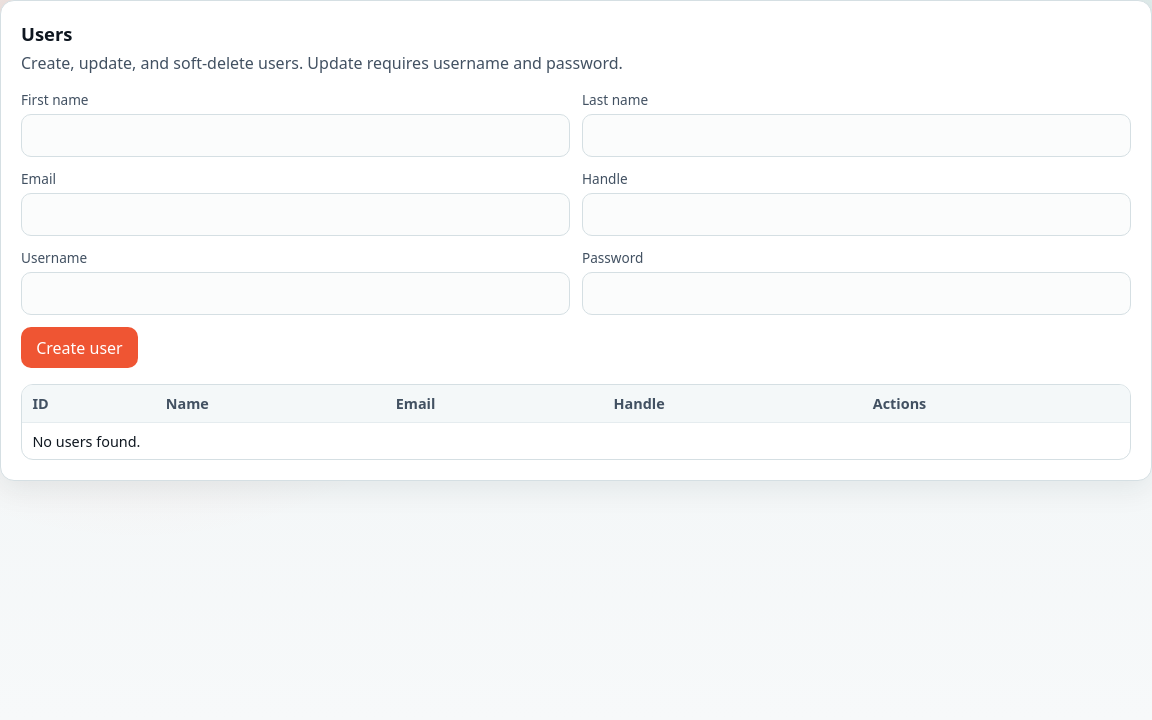
Test: UserSection › submits create user payload and refreshes list
The image size is (1152, 720).
Check: the text "No users found." is shown, box [22,422,1130,459]
Type "Ada" into the field labelled "First name".
click(296, 135); type("Ada")  # box [21,114,570,157]
Type "Lovelace" into the field labelled "Last name".
click(856, 135); type("Lovelace")  # box [582,114,1131,157]
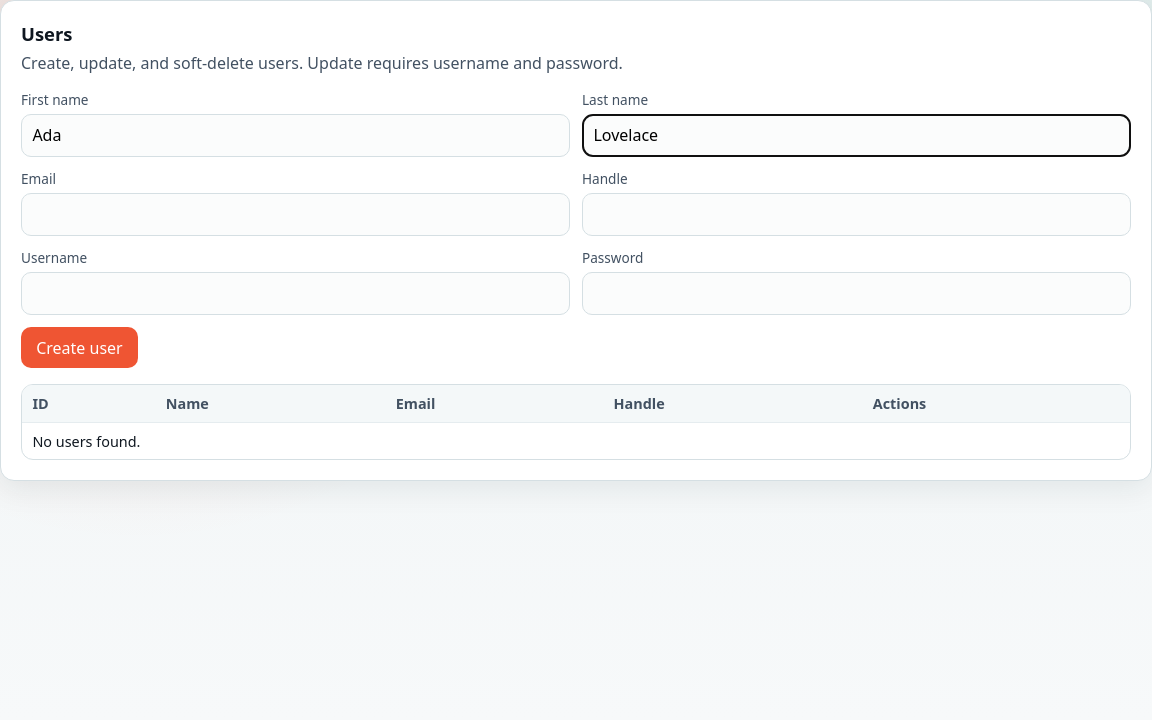
Type "ada@example.com" into the field labelled "Email".
click(296, 215); type("ada@example.com")  # box [21,193,570,236]
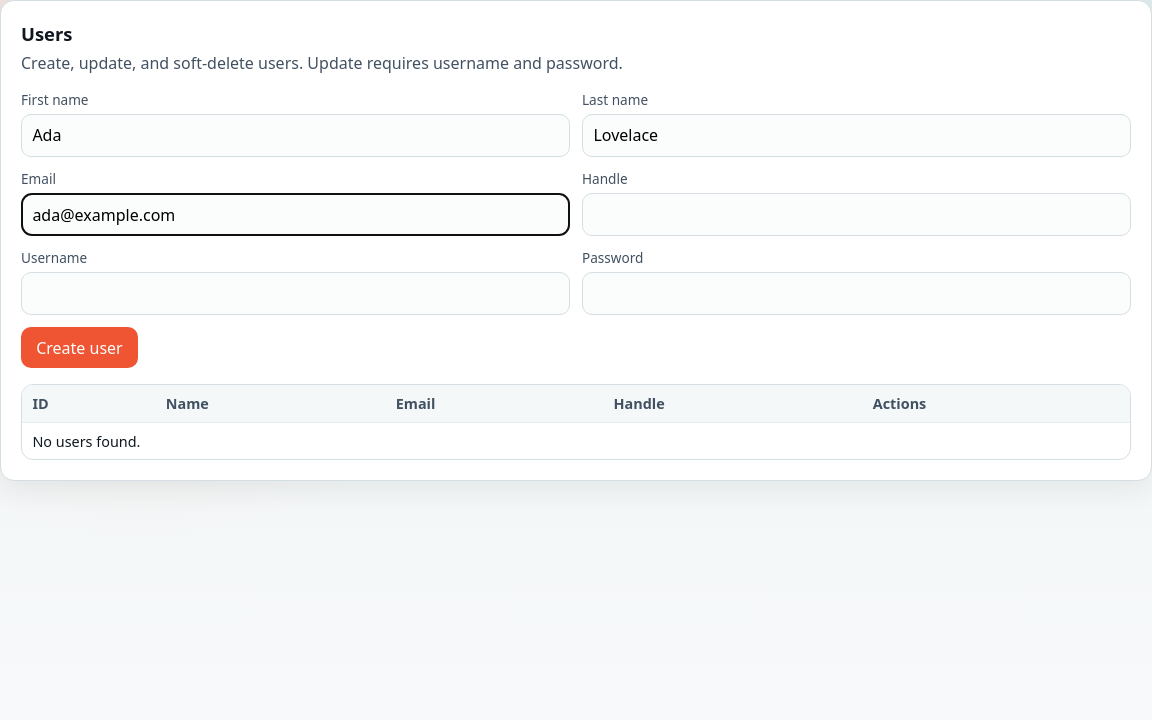
Type "adal" into the field labelled "Handle".
click(856, 215); type("adal")  # box [582,193,1131,236]
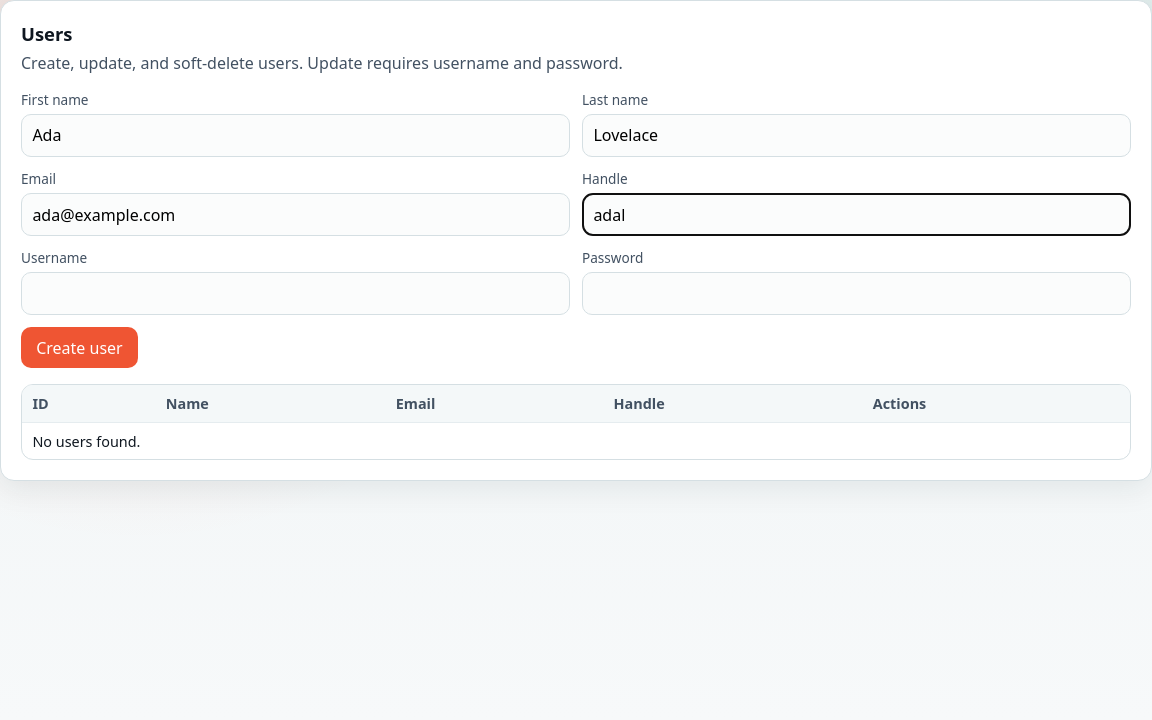
Type "adal" into the field labelled "Username".
click(296, 294); type("adal")  # box [21,272,570,315]
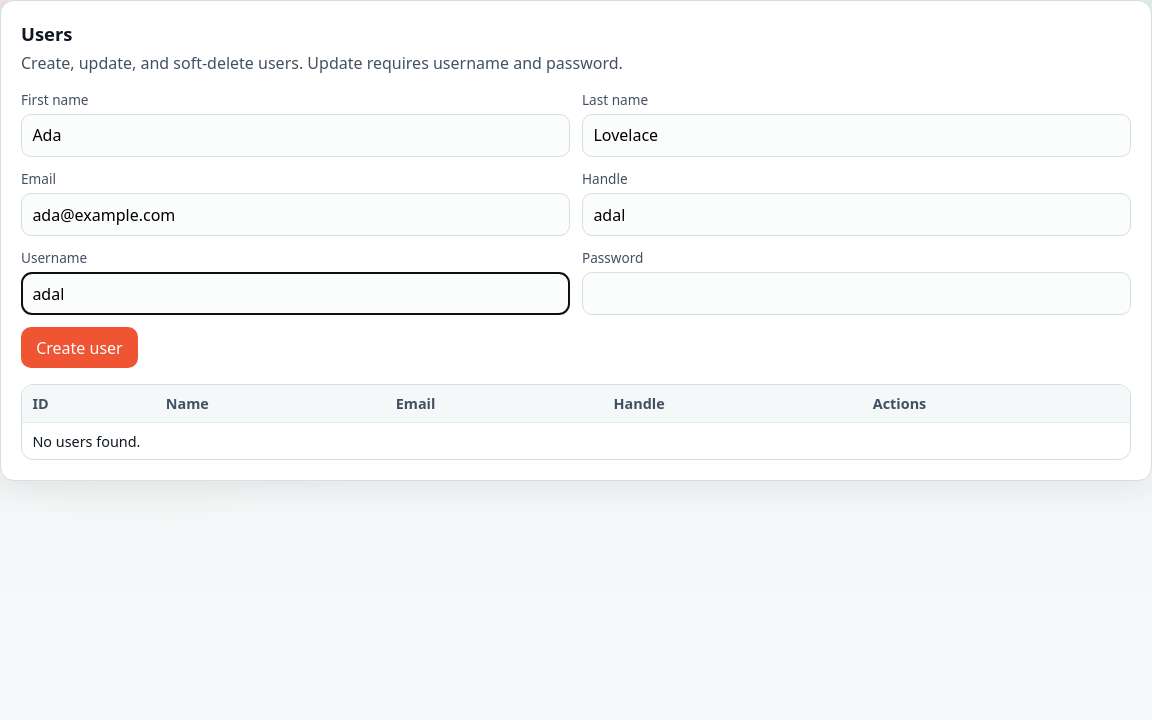
Type "password123" into the password field labelled "Password".
click(856, 294); type("password123")  # box [582,272,1131,315]
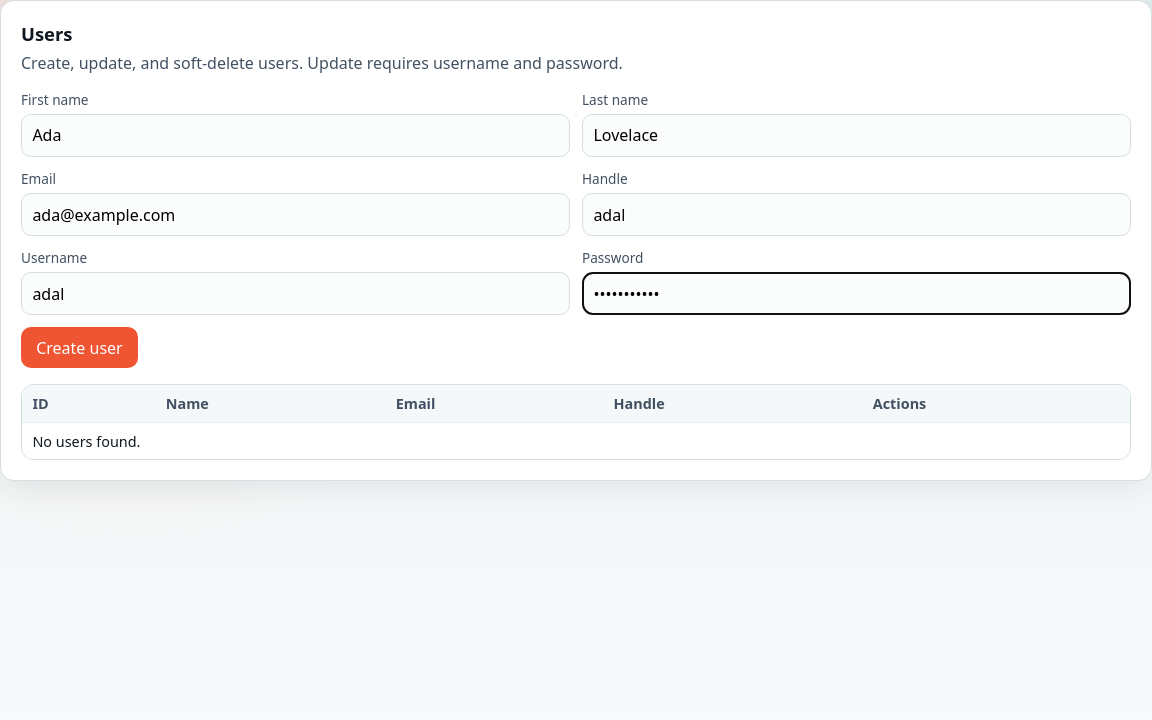
Click the button with test id "users-submit".
click(79, 348)  # box [21,327,138,368]
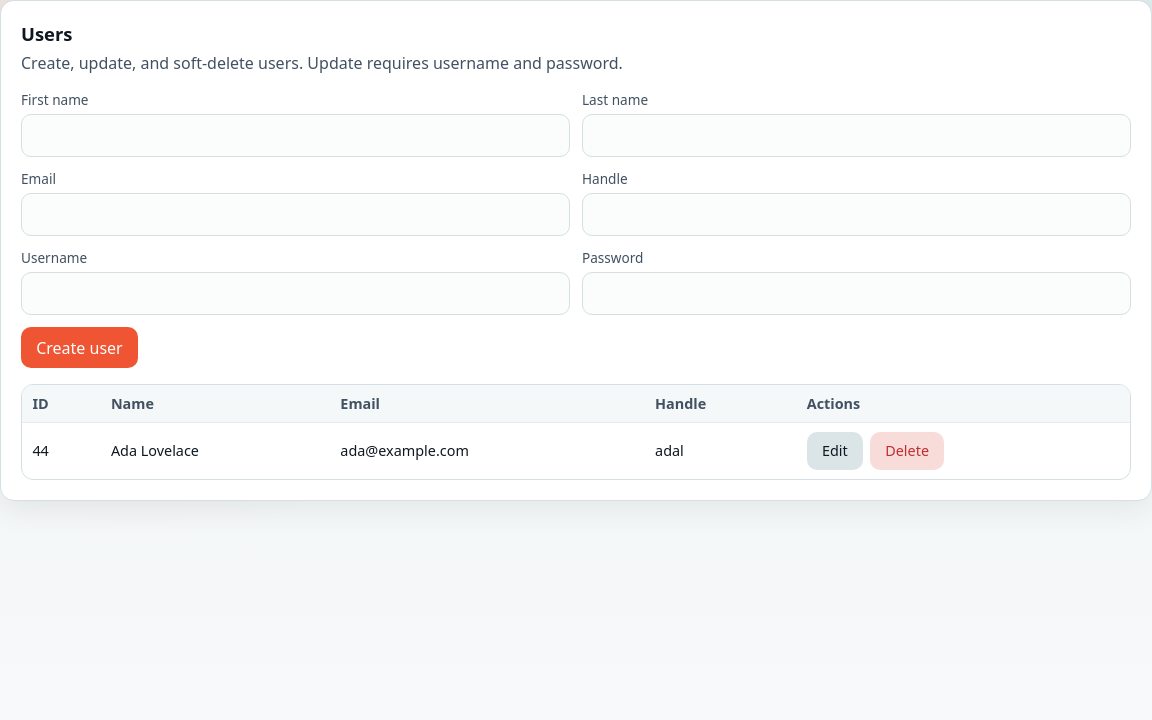
Check: the text "ada@example.com" is shown, box [330,422,645,479]
